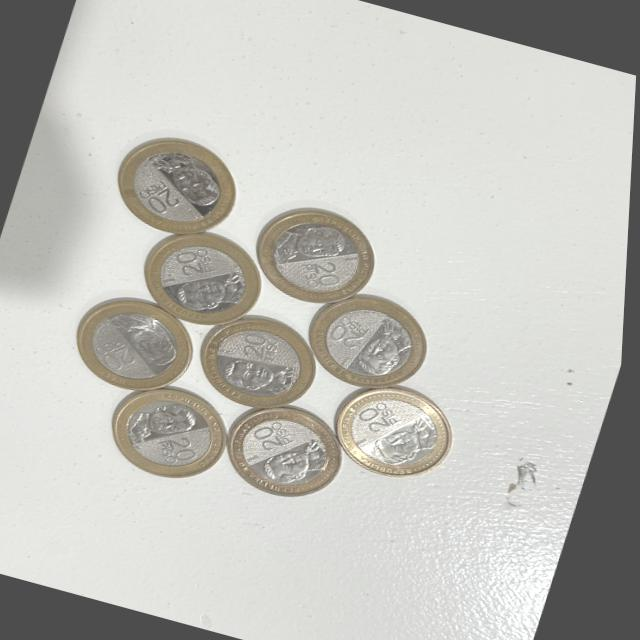20_New_Front: (344, 389, 410, 440), (248, 412, 312, 464), (150, 424, 214, 476), (161, 237, 226, 284), (131, 172, 195, 219), (225, 321, 288, 366), (295, 253, 359, 296), (85, 328, 140, 378), (322, 308, 375, 358)
